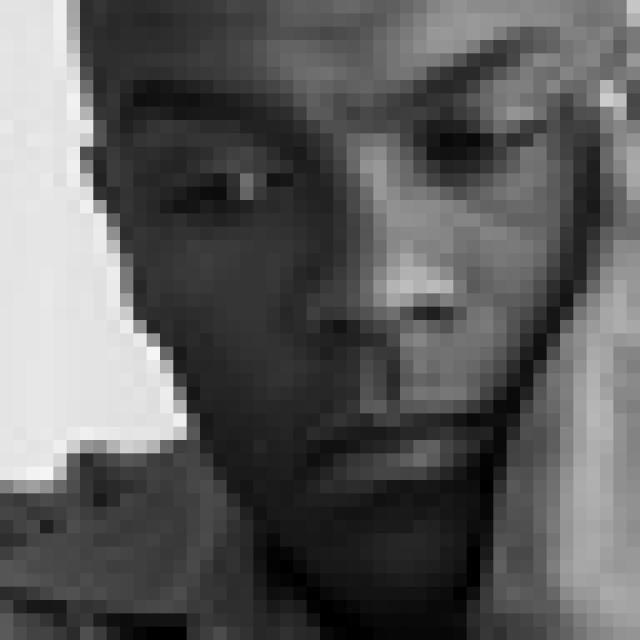sad: (113, 36, 553, 522)
